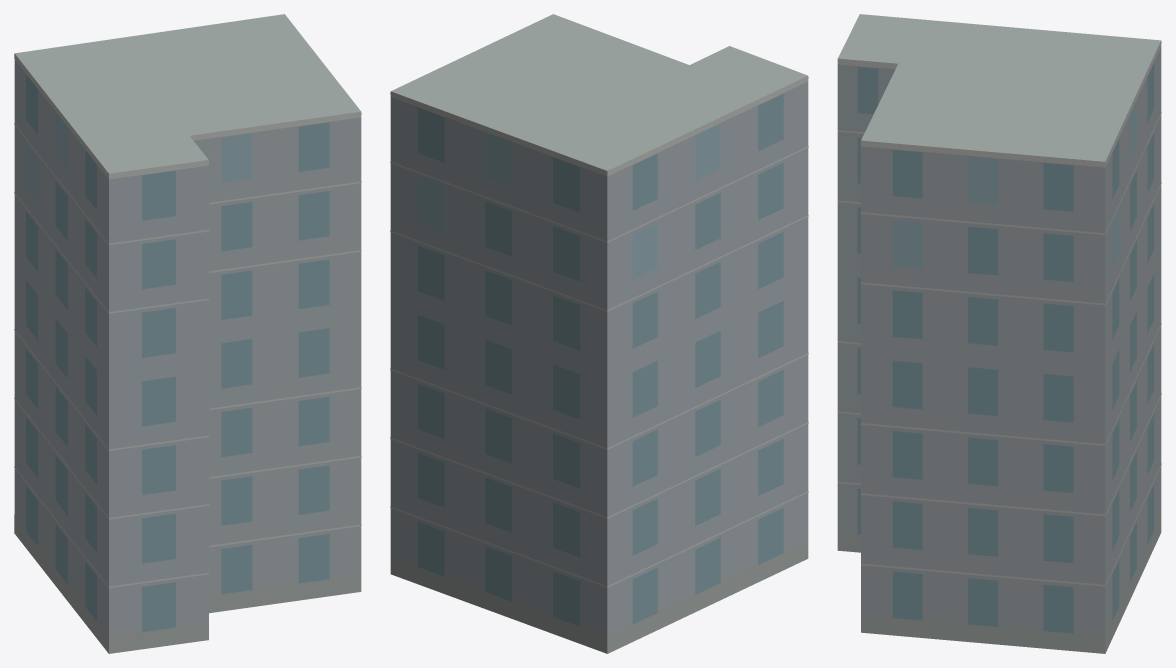
File: survey-upis-32653341.glb
3 views of the same model, side by side, from view 1: azimuth 30°, elevation 25°; view 2: azimuth 150°, elevation 25°; view 3: azimuth 270°, elevation 25° (orthographic). The views are drawn at different scales.
Visible parts, largest first — view 1: survey-upis-32653341.tmp; view 2: survey-upis-32653341.tmp; view 3: survey-upis-32653341.tmp.
Boxes of the visible parts, x1=… form: survey-upis-32653341.tmp: x1=14, y1=14, x2=361, y2=653; survey-upis-32653341.tmp: x1=390, y1=14, x2=808, y2=653; survey-upis-32653341.tmp: x1=837, y1=14, x2=1161, y2=653.
Bounding box in the file's own units: 13.33 × 20.65 × 12.33.
